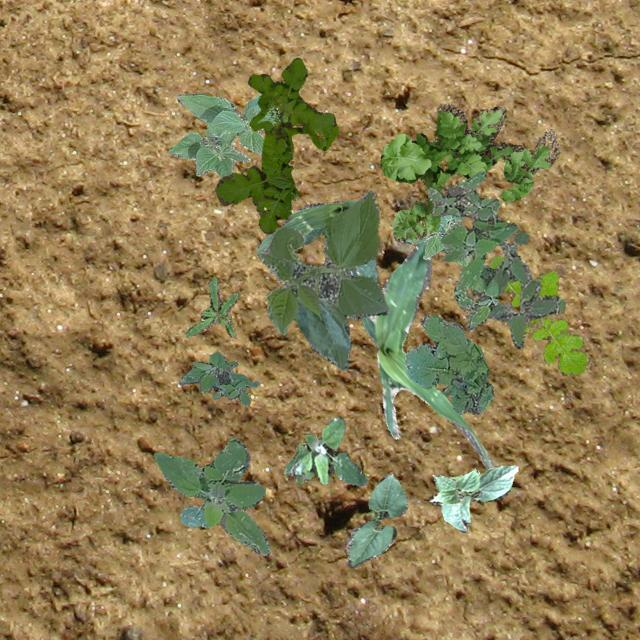crop: (348, 240, 492, 468), (256, 190, 388, 370), (168, 92, 286, 176), (256, 198, 376, 280), (428, 464, 518, 532), (344, 472, 406, 566), (400, 214, 470, 264)
weed: (380, 102, 560, 242), (214, 56, 338, 232), (426, 170, 516, 330), (153, 438, 270, 554), (486, 254, 590, 376), (486, 230, 566, 348), (403, 314, 492, 414), (283, 416, 367, 486), (178, 350, 258, 406), (185, 274, 238, 336), (438, 384, 452, 396)
